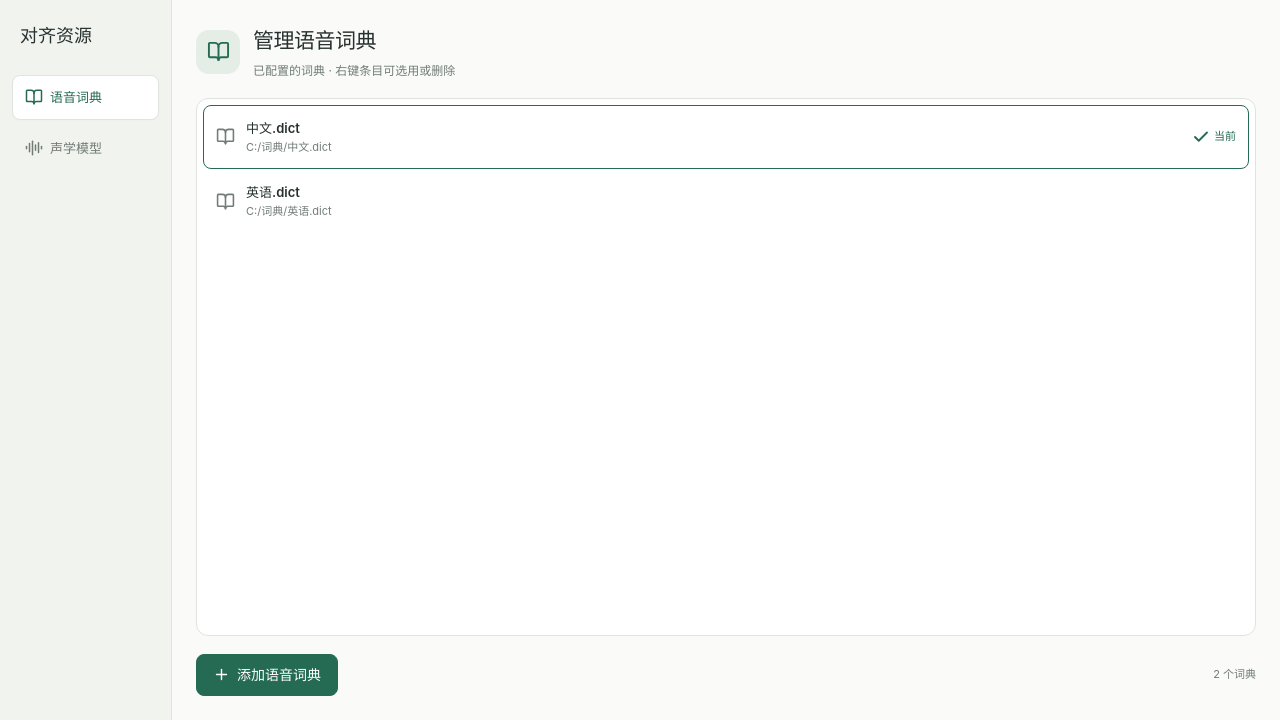
Test: left-clicking the select menu updates the current check and border after host save
Right-click the button "英语.dict C:/词典/英语.dict": [273, 192] box [203,169,1249,234]
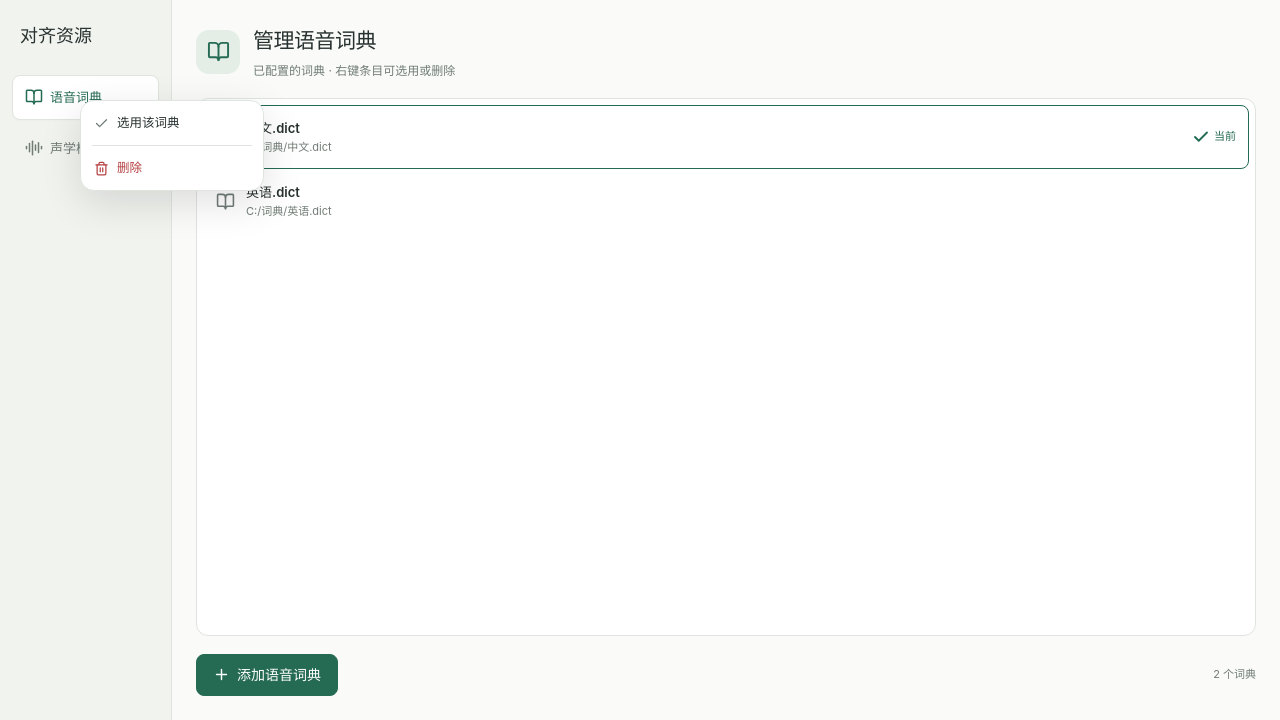
Click the menu item "选用该词典": [172, 123] box [86,106,258,140]
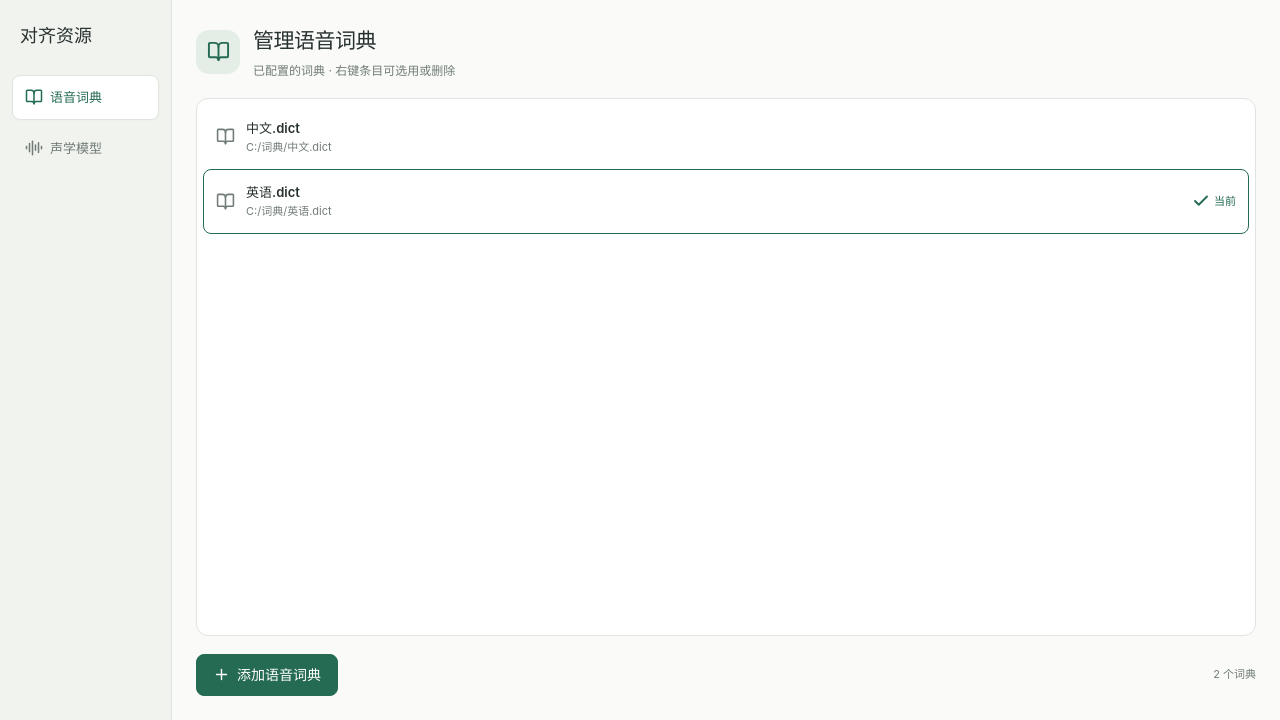
Expected: the 6th icon is shown, [1192,192,1210,210]
Expected: the button "英语.dict C:/词典/英语.dict 当前" has class "is-active"
Expected: the button "英语.dict C:/词典/英语.dict 当前" is marked as current
Right-click the button with class "is-active": [273, 192] box [203,169,1249,234]
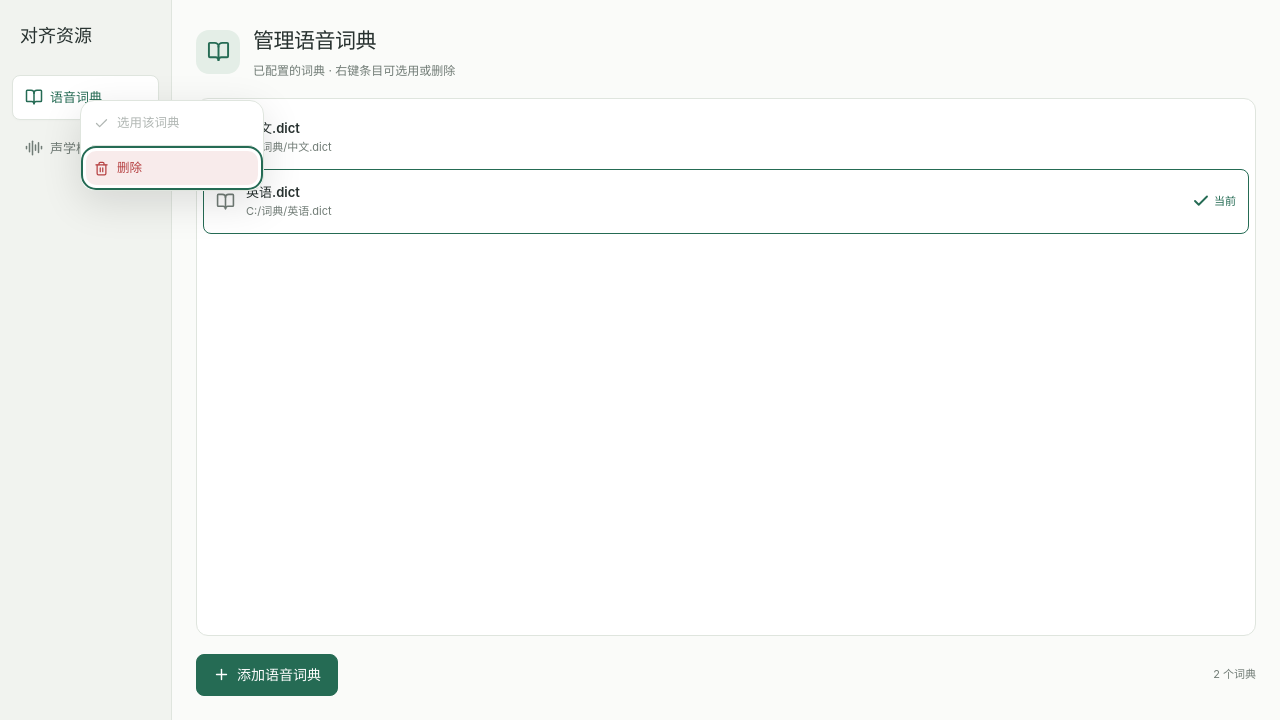
Expected: the menu item "选用该词典" is disabled, [86,106,258,140]
